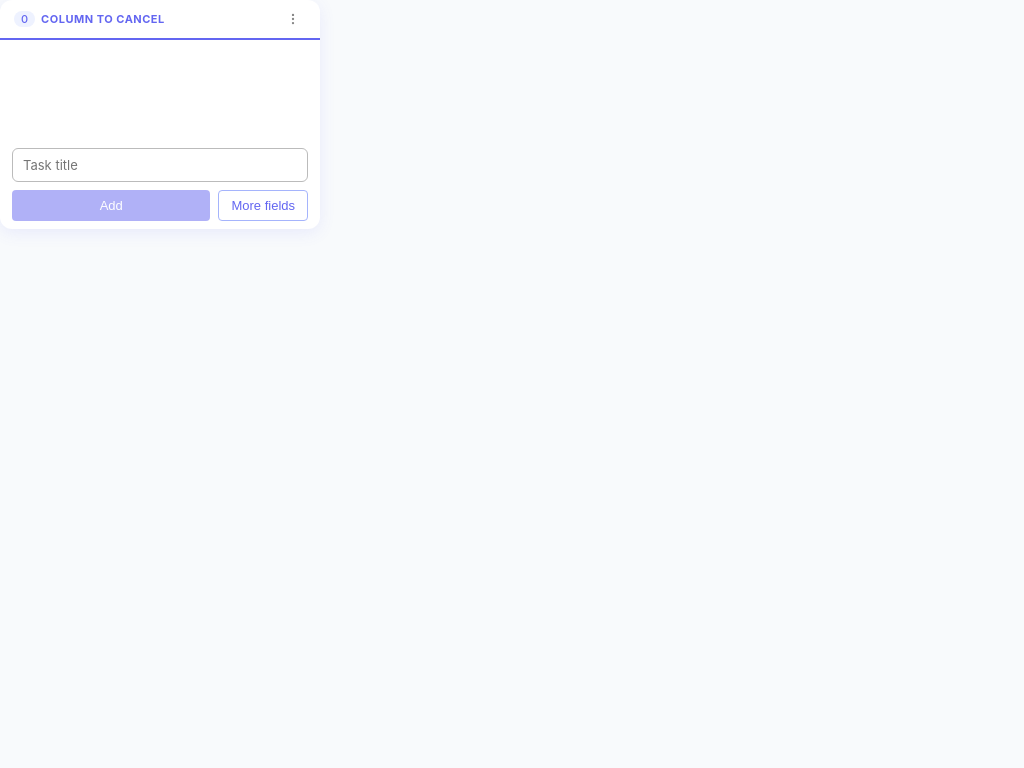
ColumnCard › Delete confirmation for custom column › cancels delete when Cancel is clicked
// Open menu and click Delete
Click the button named "Menu" at (293, 19), box left=280, top=10, right=306, bottom=28
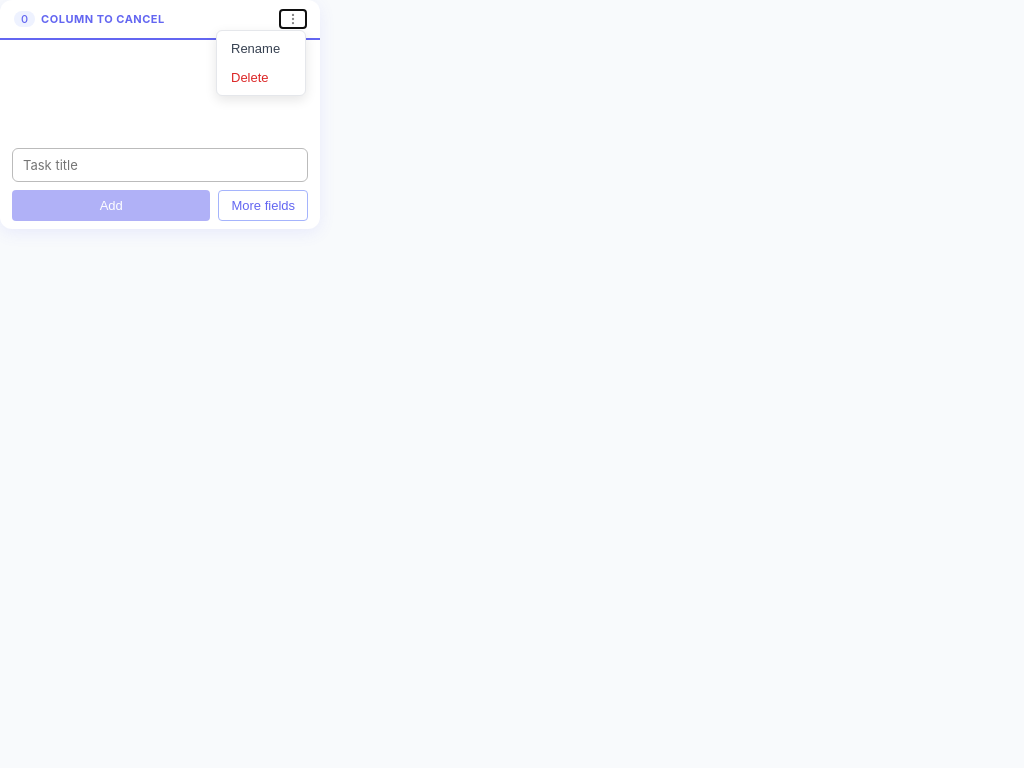
Click the button "Delete" at (261, 78), box left=221, top=64, right=301, bottom=91
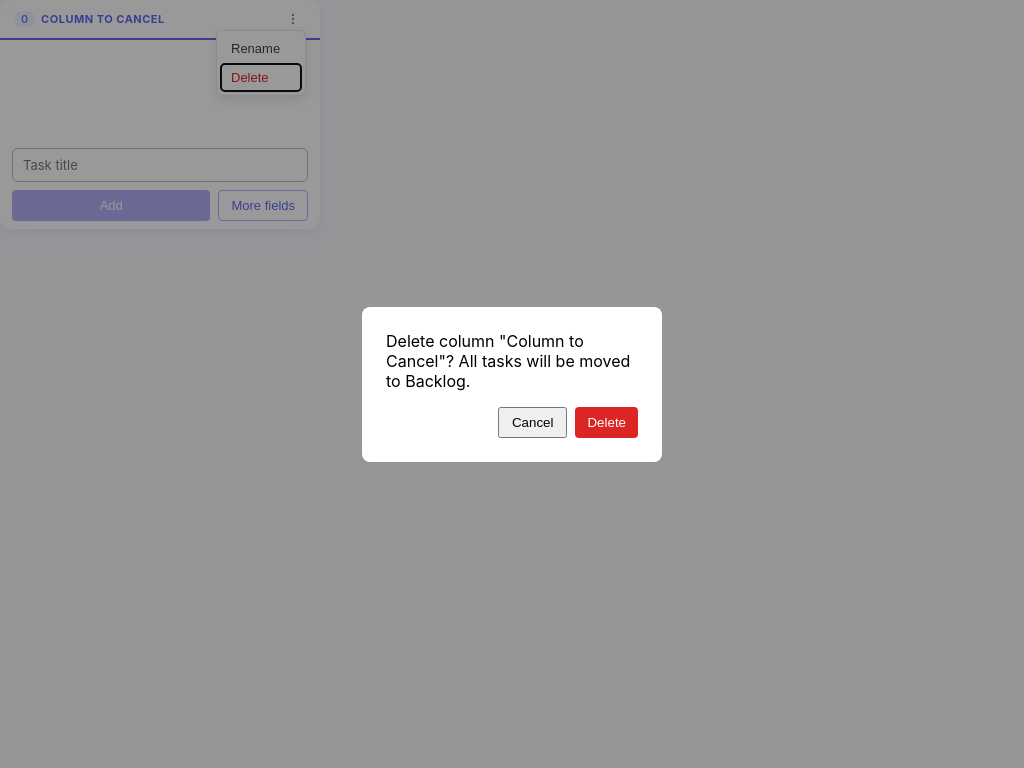
// Click Cancel
Click the button "Cancel" at (533, 422), box left=498, top=406, right=568, bottom=438
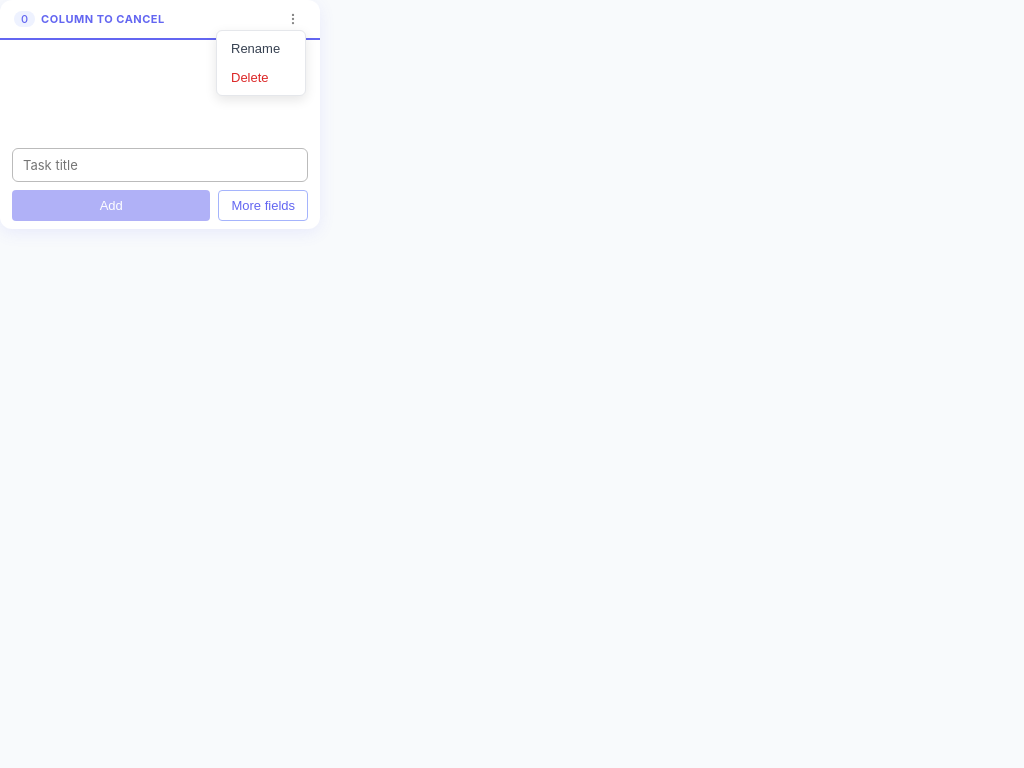
Expected: the heading "Column to Cancel" is shown, left=41, top=12, right=165, bottom=26
Expected: the text "Delete column" is gone
